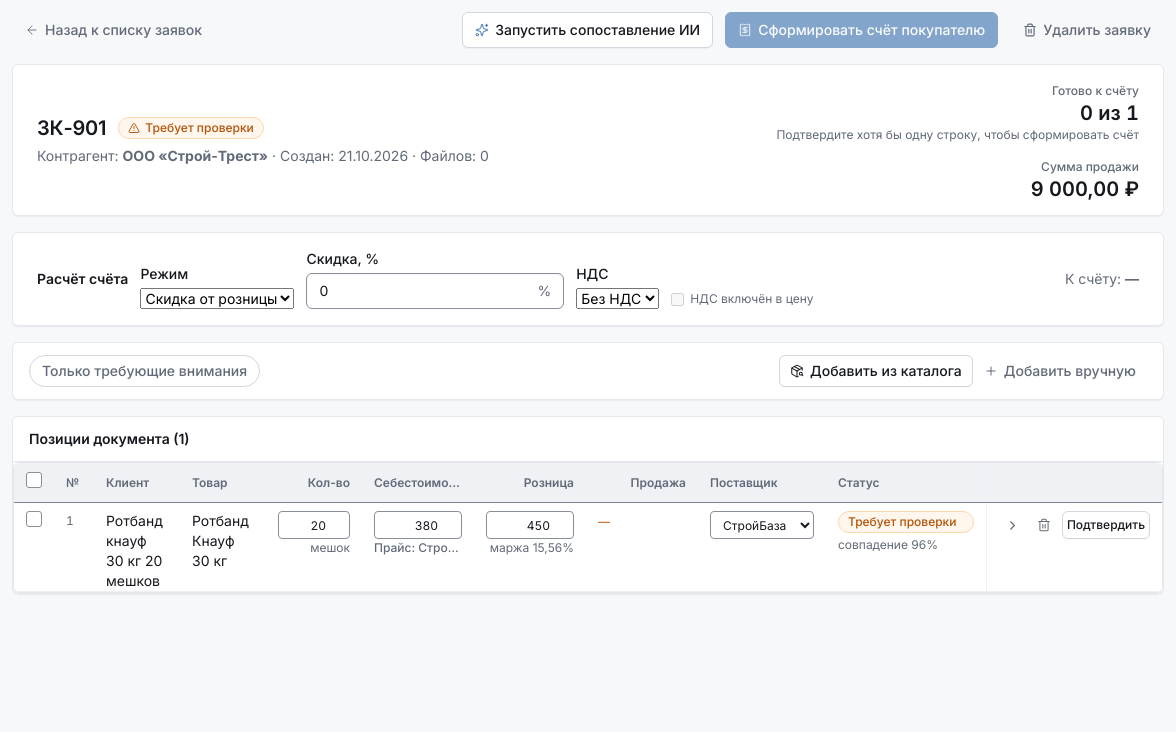
Test: Таблица позиций документа › подтверждает строку одной кнопкой и показывает ошибку валидации в строке
Click the button with aria-label "Подтвердить поз. 1" at (1106, 525), box top-left (1062, 511), bottom-right (1150, 539)
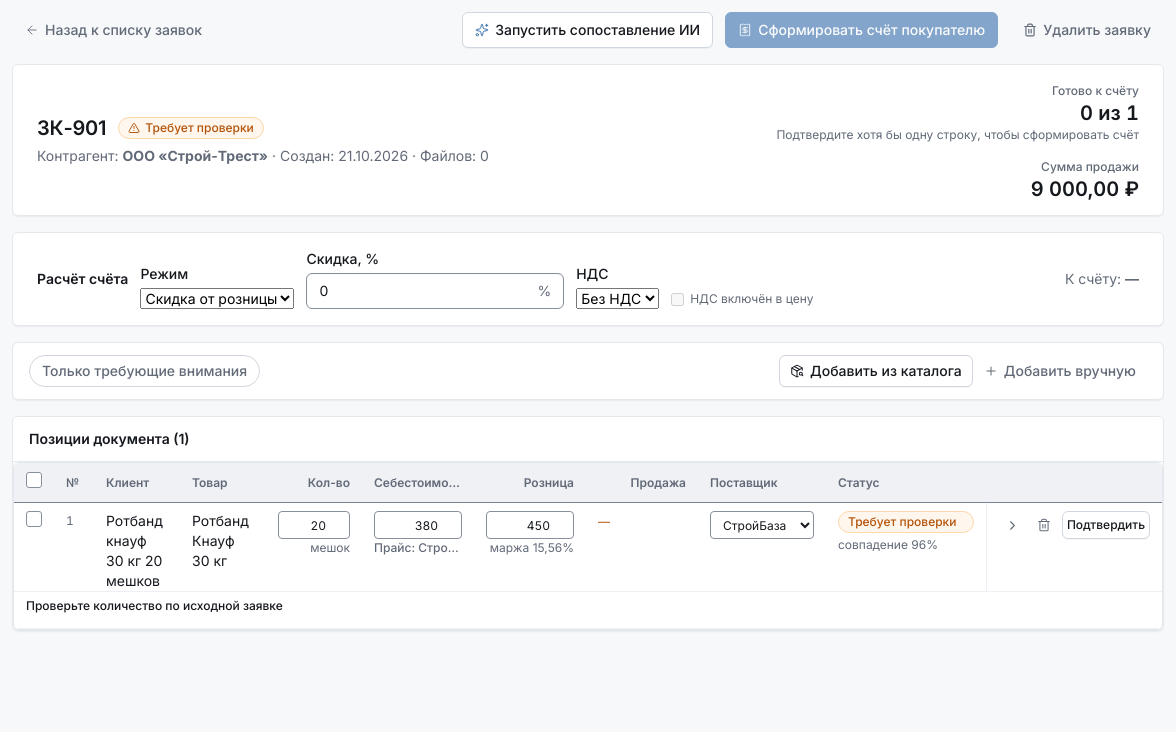
Result: the text "Проверьте количество по исходной заявке" is shown at top-left (26, 598), bottom-right (283, 613)
